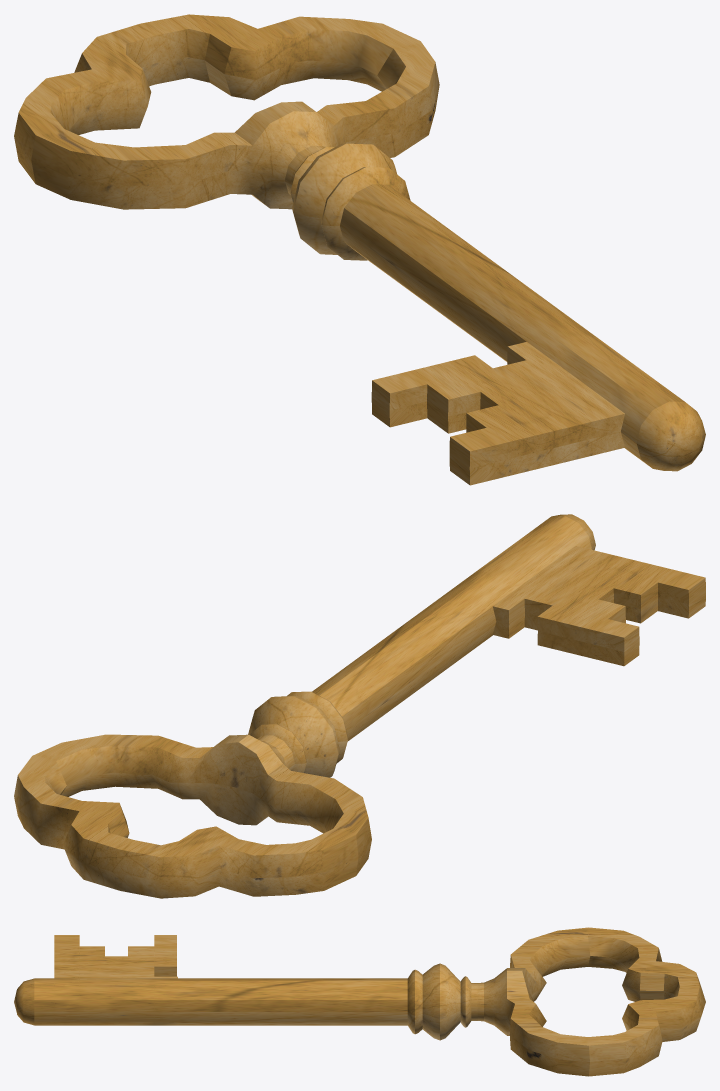
Rendered from llave.fbx.
The picture shows the model from 3 angles, top to bottom: view 1: azimuth 30°, elevation 25°; view 2: azimuth 150°, elevation 25°; view 3: azimuth 270°, elevation 25°; orthographic projection. The views are drawn at different scales.
Visible parts, largest first — view 1: Cylinder.006; view 2: Cylinder.006; view 3: Cylinder.006.
Boxes of the visible parts, x1,y1,x2,y2 form: Cylinder.006: (14, 14, 705, 485); Cylinder.006: (14, 514, 705, 898); Cylinder.006: (14, 927, 705, 1076).
Bounding box in the file's own units: 5.19 × 1.41 × 12.62.
